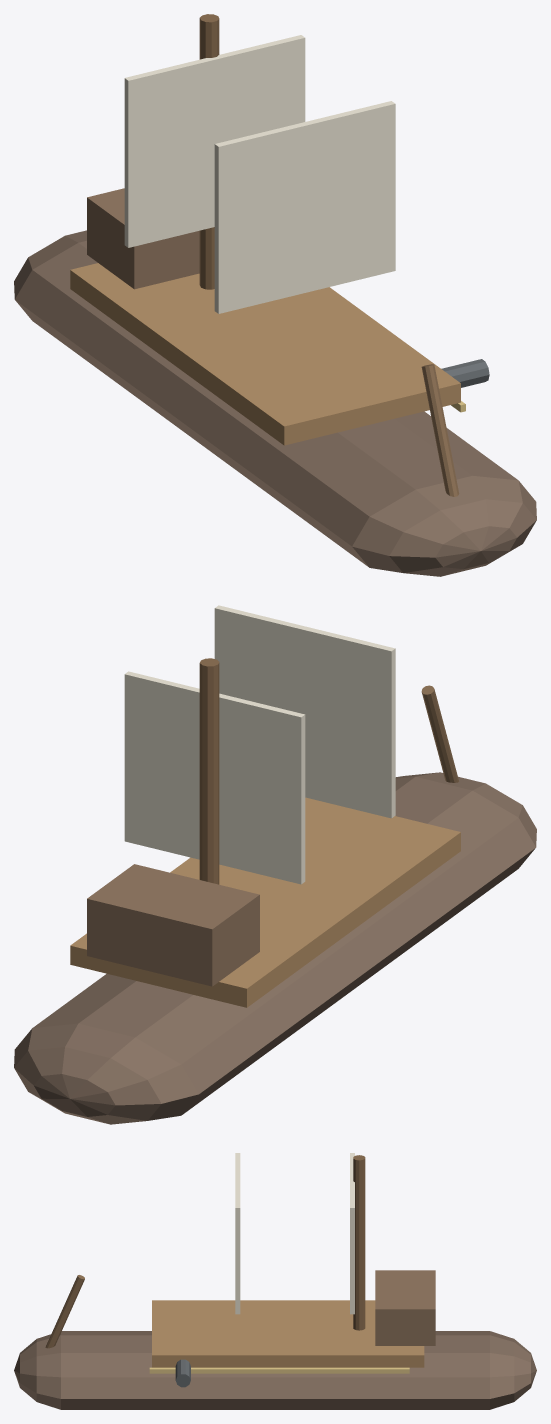
File: ship_starter_small_m201.glb
3 renders of one model, top to bottom at view 1: azimuth 30°, elevation 25°; view 2: azimuth 150°, elevation 25°; view 3: azimuth 270°, elevation 25°, orthographic. The views are drawn at different scales.
Parts seen in each view (by area): view 1: Hull, Deck, Sail0, Sail1, Cabin, Mast, Bowsprit, Cannon; view 2: Hull, Sail1, Deck, Sail0, Cabin, Mast, Bowsprit; view 3: Hull, Deck, Cabin, Mast, Trim, Sail0, Sail1, Bowsprit, Cannon.
Part boxes in pixels (x1=…): Hull: x1=14, y1=230, x2=536, y2=576; Deck: x1=70, y1=263, x2=460, y2=445; Sail0: x1=214, y1=101, x2=395, y2=313; Sail1: x1=124, y1=35, x2=305, y2=247; Cabin: x1=87, y1=188, x2=199, y2=289; Mast: x1=199, y1=14, x2=219, y2=289; Bowsprit: x1=421, y1=364, x2=459, y2=496; Cannon: x1=441, y1=359, x2=489, y2=387; Hull: x1=14, y1=772, x2=536, y2=1124; Sail1: x1=124, y1=671, x2=305, y2=884; Deck: x1=70, y1=797, x2=460, y2=1007; Sail0: x1=214, y1=605, x2=395, y2=818; Cabin: x1=87, y1=864, x2=259, y2=986; Mast: x1=199, y1=658, x2=219, y2=884; Bowsprit: x1=421, y1=685, x2=458, y2=782; Hull: x1=14, y1=1331, x2=536, y2=1409; Deck: x1=152, y1=1300, x2=424, y2=1367; Cabin: x1=375, y1=1270, x2=435, y2=1345; Mast: x1=353, y1=1155, x2=365, y2=1330; Trim: x1=149, y1=1367, x2=409, y2=1373; Sail0: x1=235, y1=1153, x2=240, y2=1314; Sail1: x1=350, y1=1153, x2=354, y2=1314; Bowsprit: x1=45, y1=1275, x2=84, y2=1348; Cannon: x1=175, y1=1359, x2=190, y2=1387.
Bounding box in the file's own units: 1.8 × 2.83 × 5.62.
